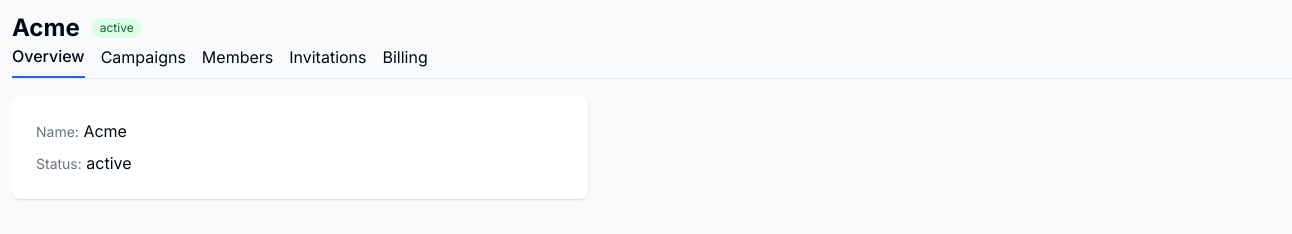
Test: OrgDetailsContainer › switches to the members tab and shows member data
Click the button "Members" at (238, 61), box [202,44,273,78]
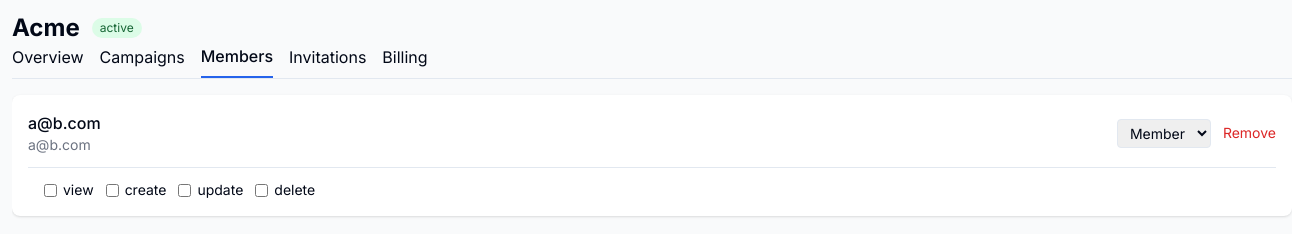
Now the 1st text "a@b.com" is shown, box [28,113,101,133]
